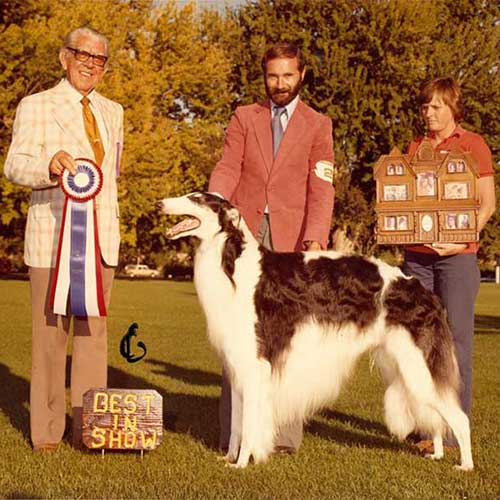borzoi: (151, 184, 480, 478)
